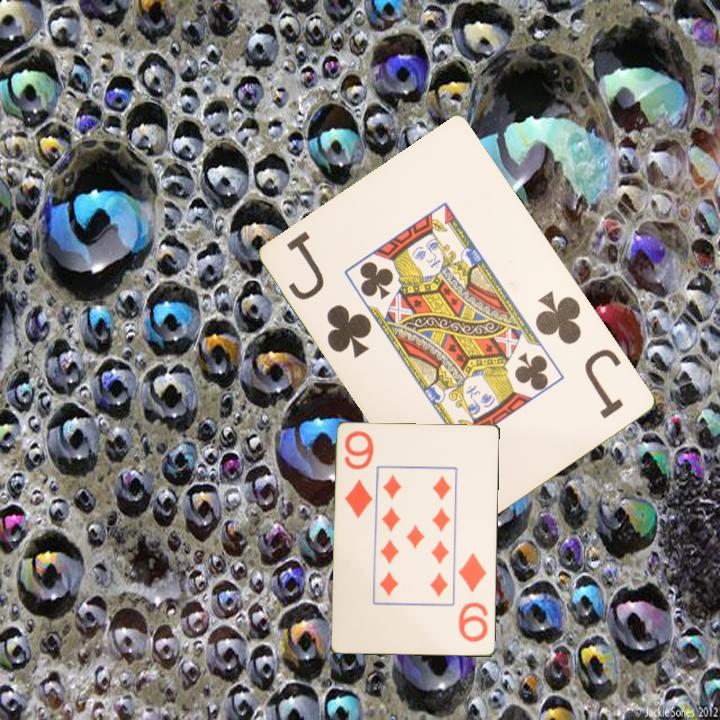9d: (455, 549, 491, 645), (341, 428, 377, 521)
Jc: (532, 287, 628, 422), (283, 227, 376, 361)
